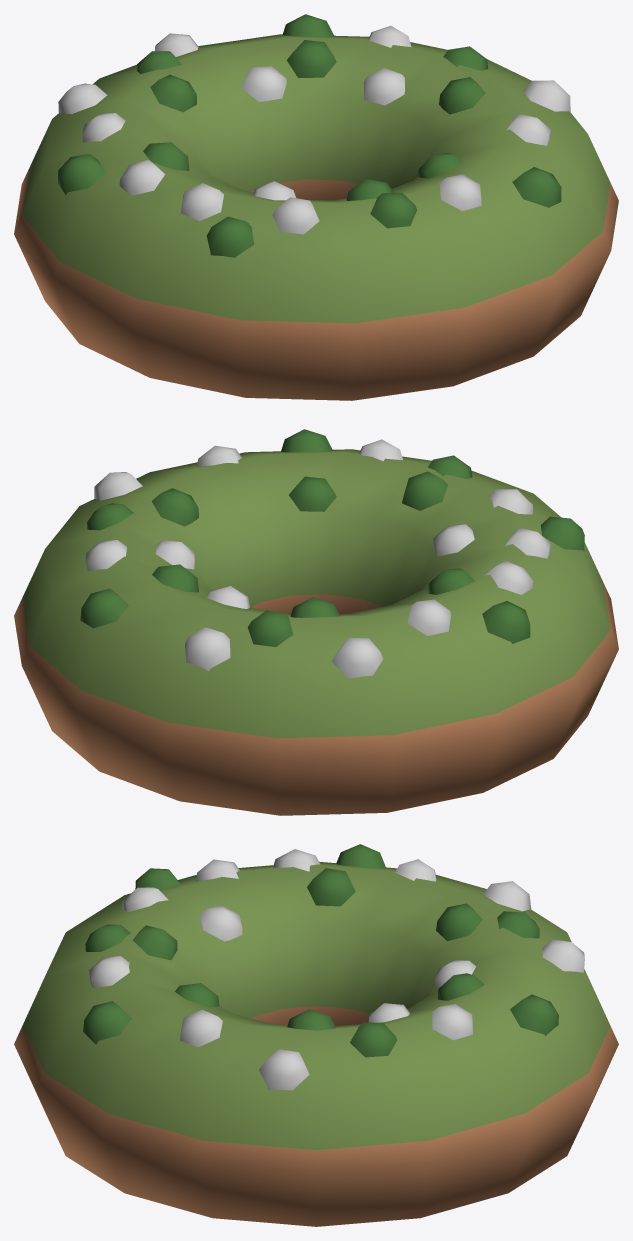
Rendered from GreenDonut_01.fbx.
The picture shows the model from 3 angles, top to bottom: view 1: azimuth 30°, elevation 25°; view 2: azimuth 150°, elevation 25°; view 3: azimuth 270°, elevation 25°; orthographic projection.
Visible parts, largest first — view 1: GreenDonut_01; view 2: GreenDonut_01; view 3: GreenDonut_01.
Part boxes in pixels (<box>): GreenDonut_01: <box>14,14,618,400</box>; GreenDonut_01: <box>14,429,618,815</box>; GreenDonut_01: <box>14,844,618,1226</box>.
Size of the model in its own units: 0.1688 by 0.0615 by 0.1688.
